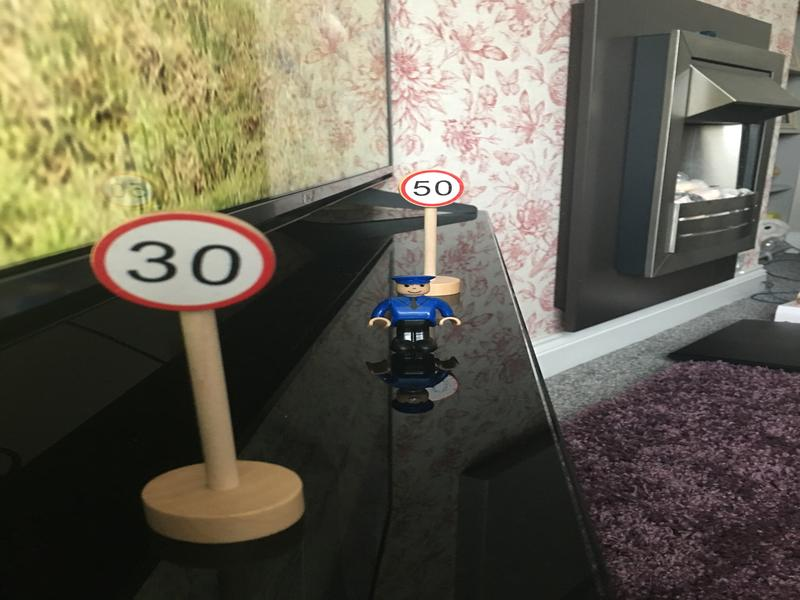Traffic_Sign_30: (91, 214, 276, 309)
Traffic_Sign_50: (399, 170, 465, 208)
person: (366, 271, 465, 360)
